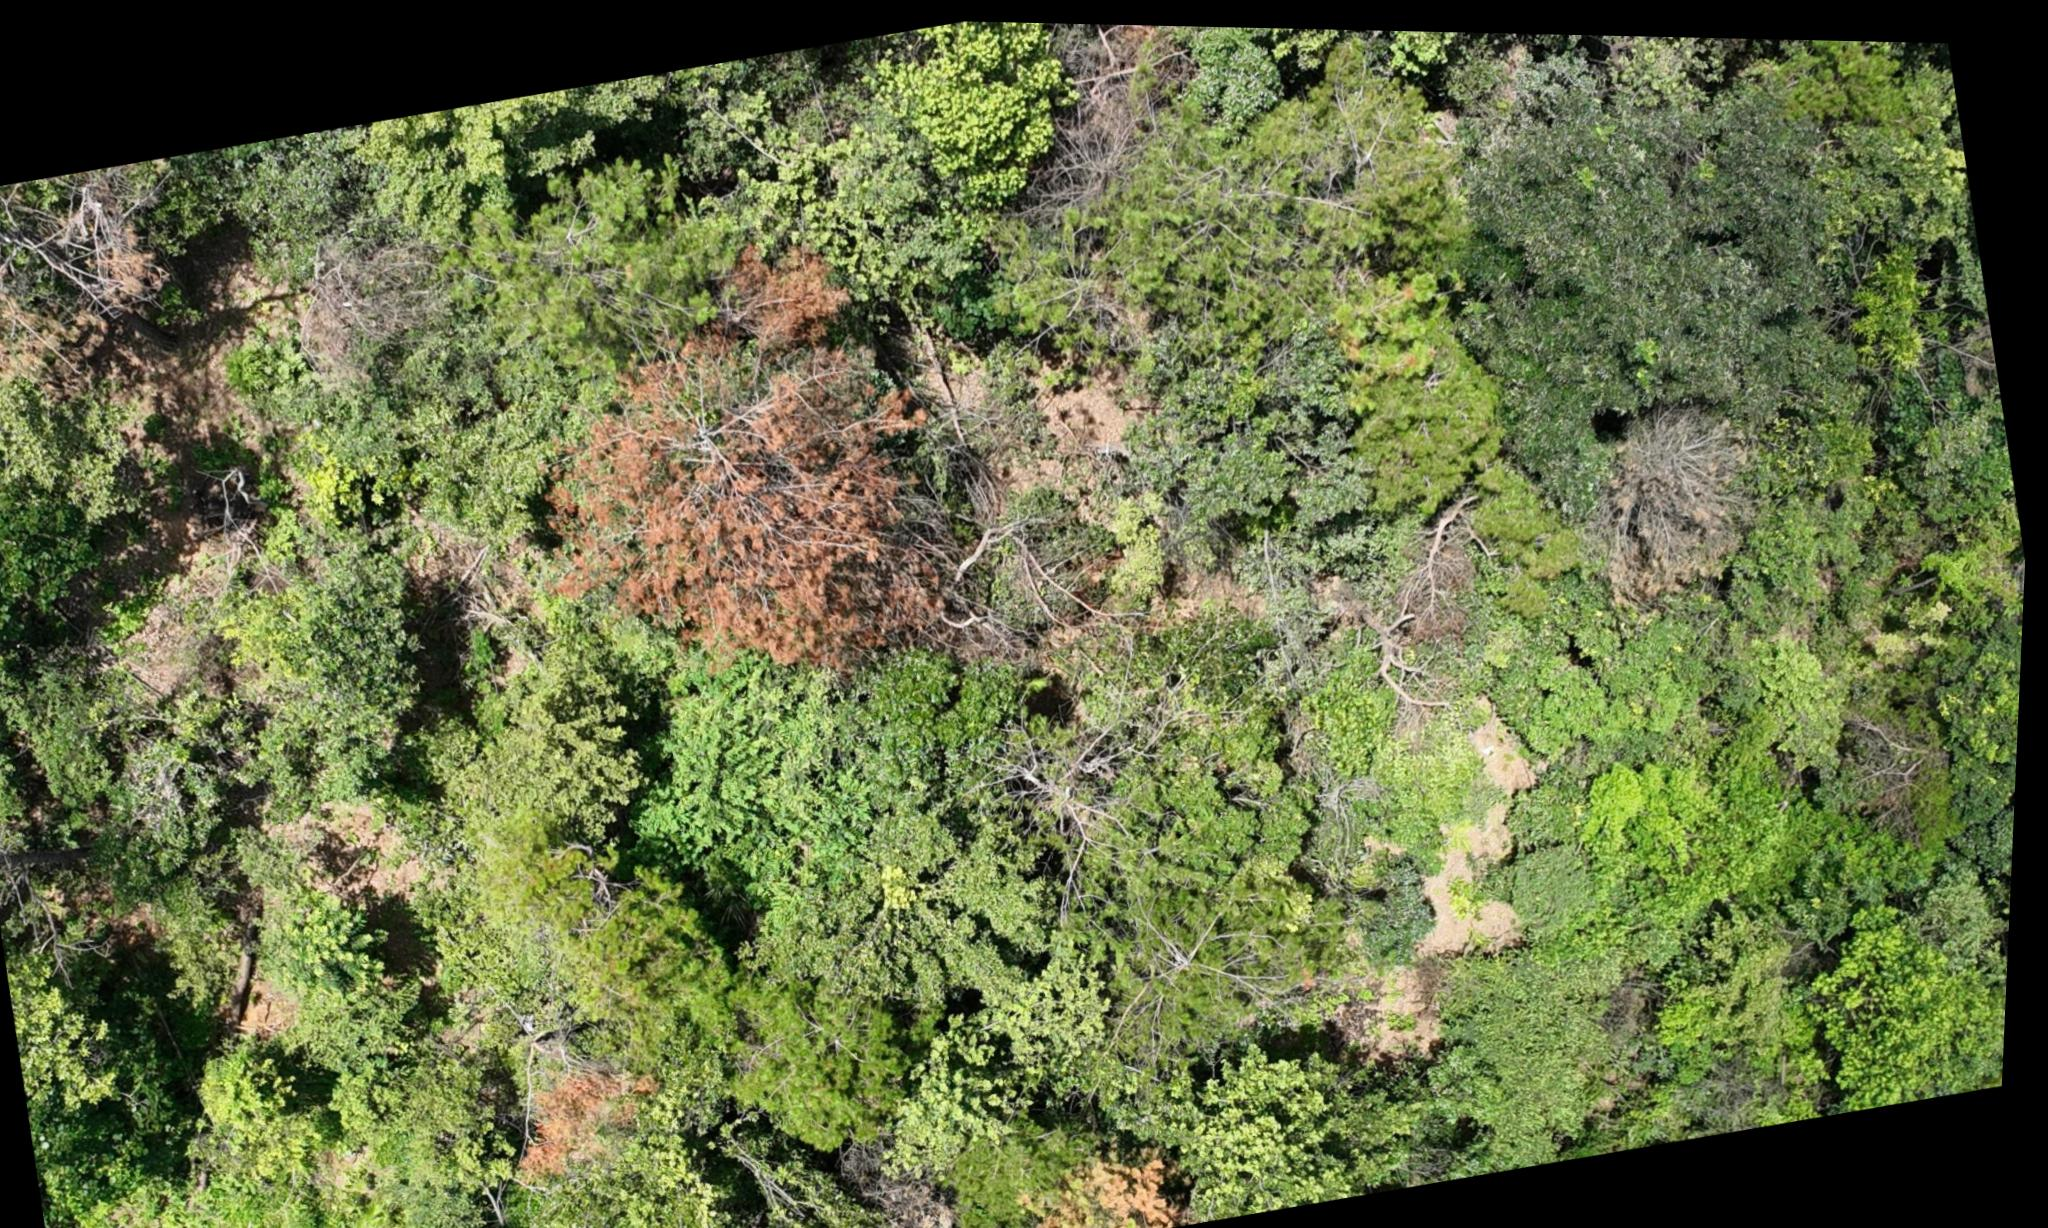dead: (1588, 380, 1776, 586), (288, 221, 450, 384)
heavy: (471, 219, 978, 718), (0, 178, 175, 424), (496, 1004, 675, 1190), (1019, 1121, 1181, 1228)
